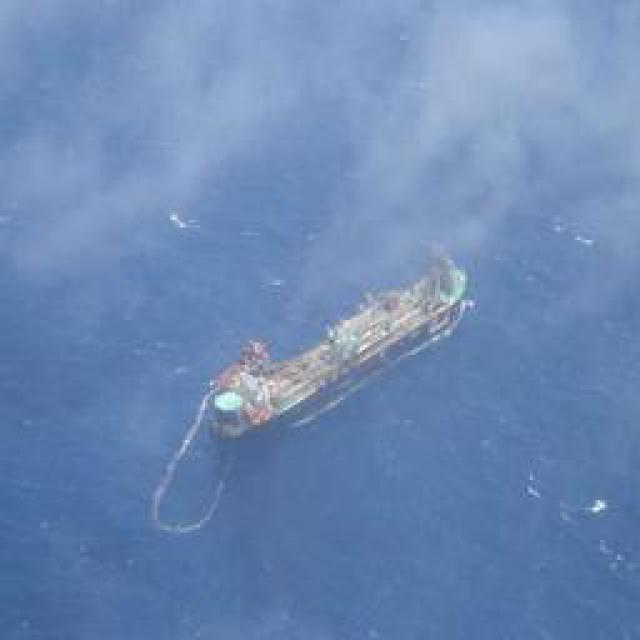Ship: (186, 235, 499, 454)
